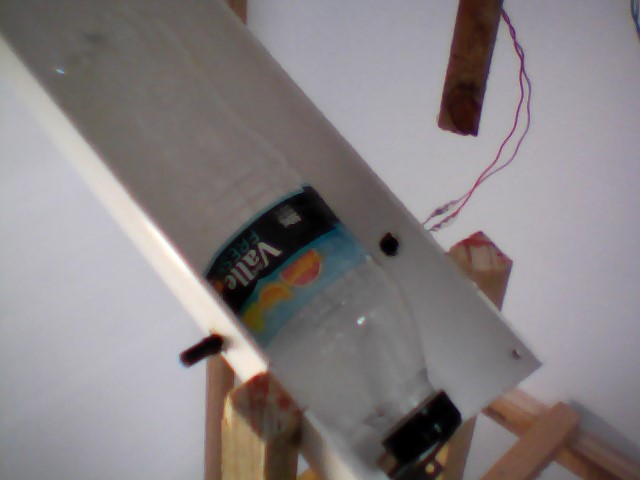plastico: (42, 8, 472, 451)
